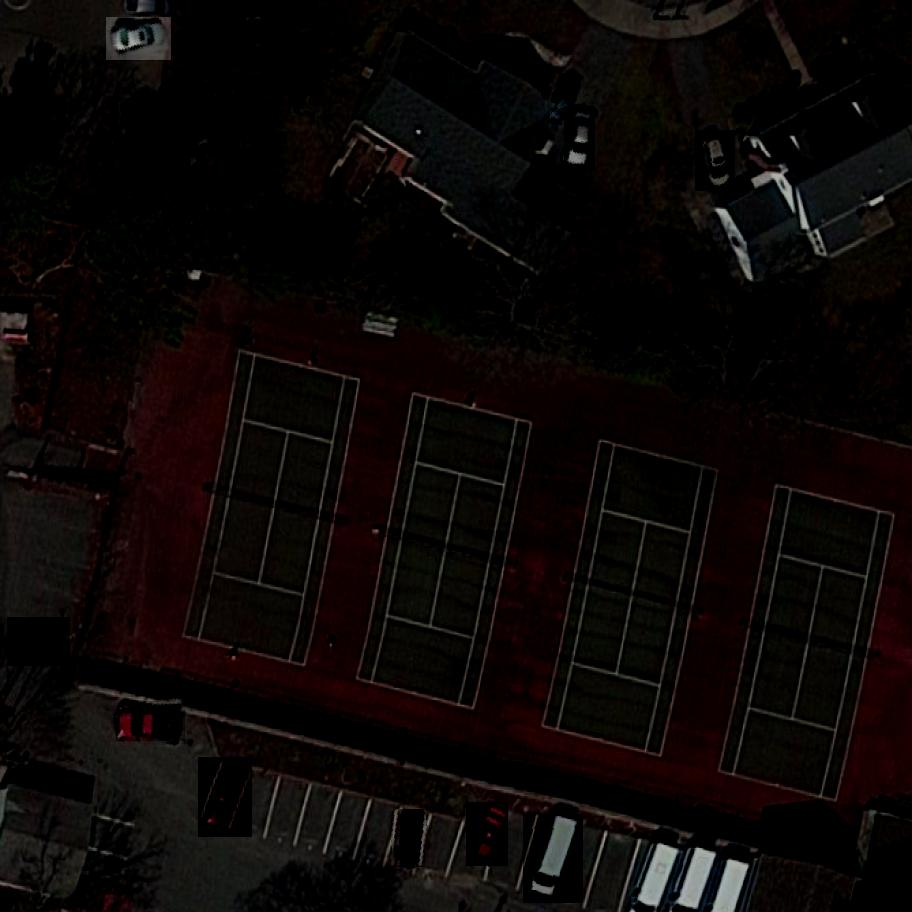large-vehicle: (523, 812, 583, 907)
small-vehicle: (198, 757, 253, 837), (7, 617, 73, 666), (105, 17, 172, 62), (466, 802, 511, 866), (693, 130, 736, 191), (544, 73, 584, 128), (116, 710, 185, 741), (565, 107, 597, 171), (394, 810, 425, 867)
